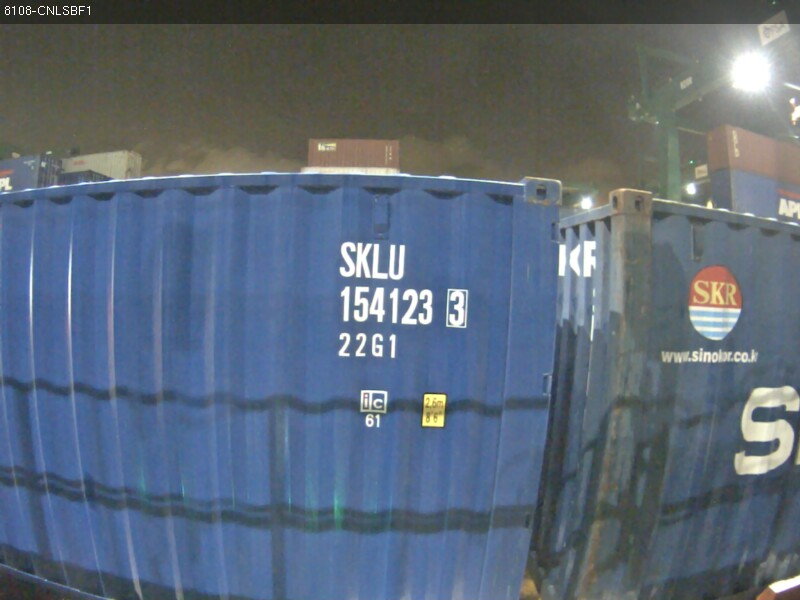container_no_door: (6, 166, 575, 586)
